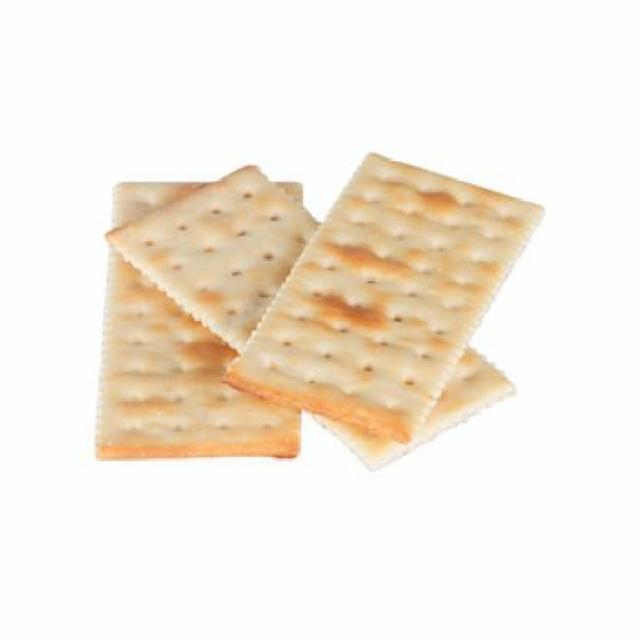Cracker packaged: (114, 162, 518, 473), (236, 160, 541, 462), (90, 160, 302, 472)
